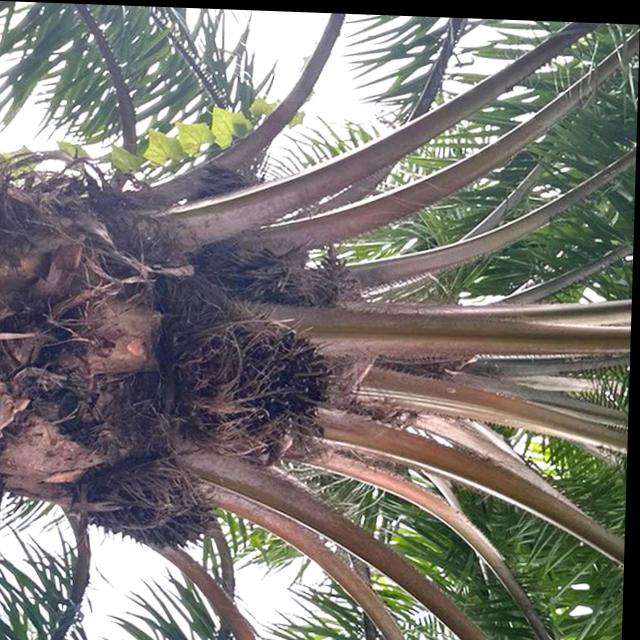ripe: (183, 304, 360, 461)
